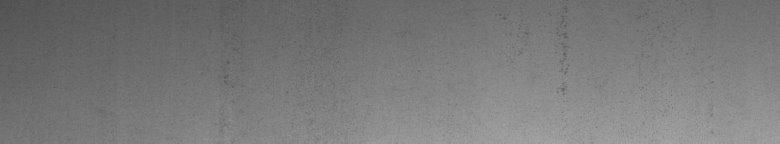ib: (499, 14, 570, 94)
